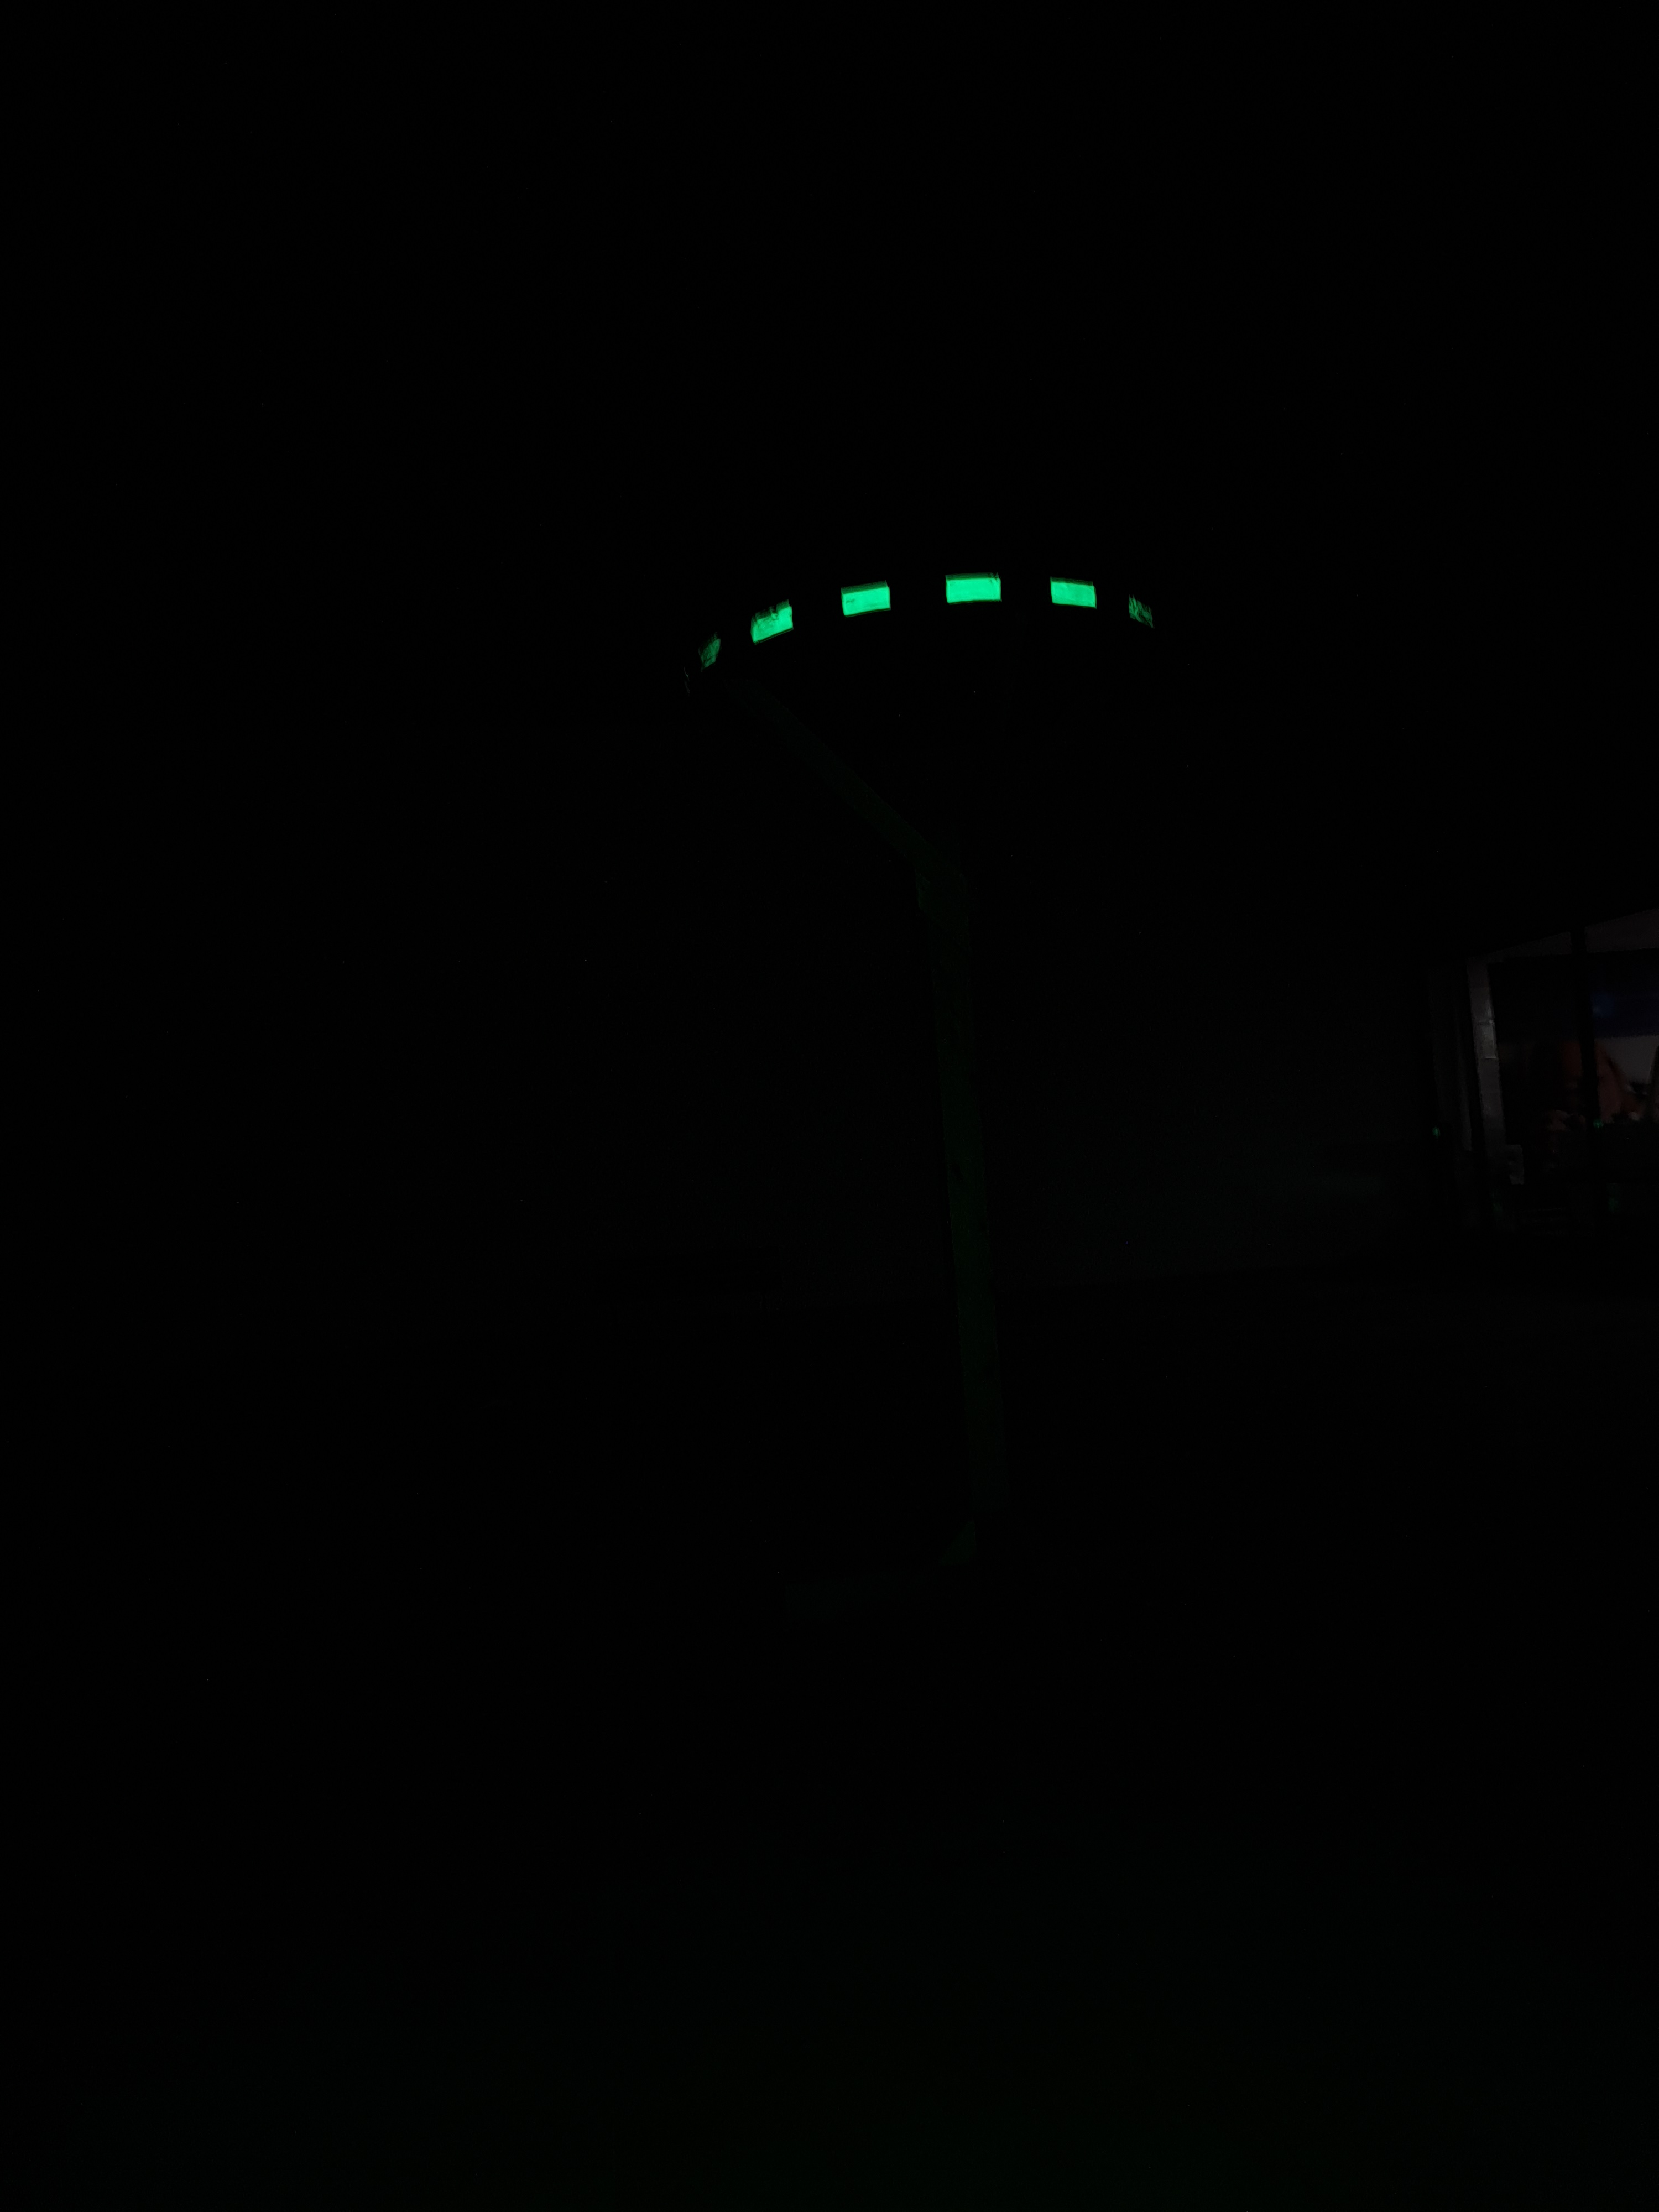hoop: (667, 542, 1187, 700)
